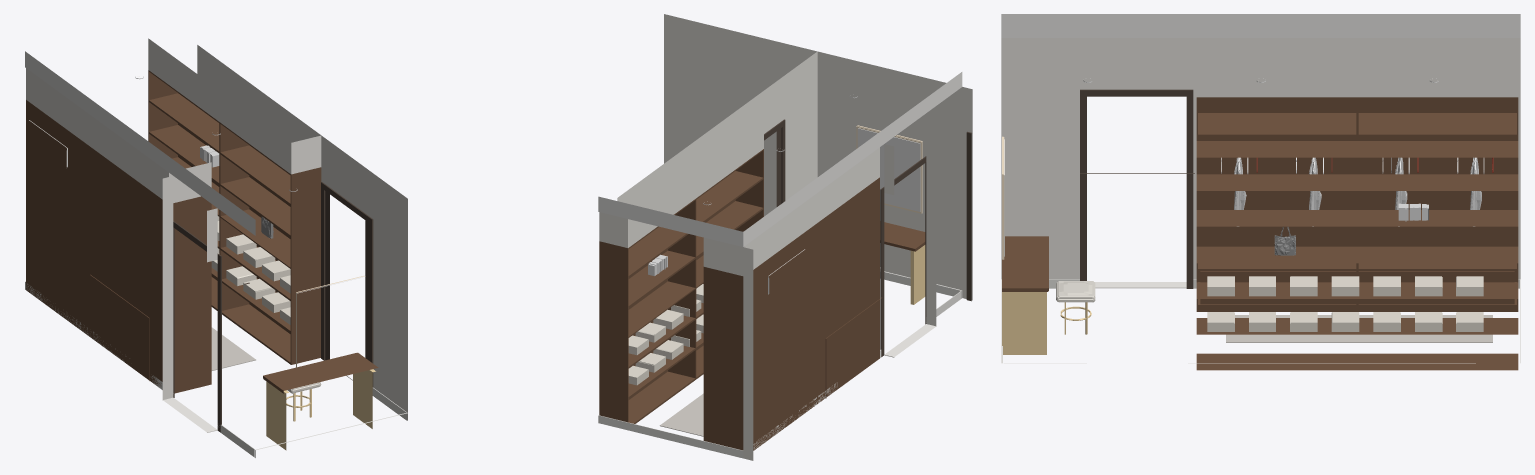
The model's file is DRESS.glb.
3 renders of one model, left to right at view 1: azimuth 30°, elevation 25°; view 2: azimuth 150°, elevation 25°; view 3: azimuth 270°, elevation 25°, orthographic. The views are drawn at different scales.
Parts seen in each view (by area): view 1: WEB_DRESS; view 2: WEB_DRESS; view 3: WEB_DRESS.
Part boxes in pixels (x1,y1,x2,y2): WEB_DRESS: (25, 38, 407, 457); WEB_DRESS: (598, 14, 972, 460); WEB_DRESS: (1001, 14, 1520, 370).
Size of the model in its own units: 4.3 by 3 by 5.26.
